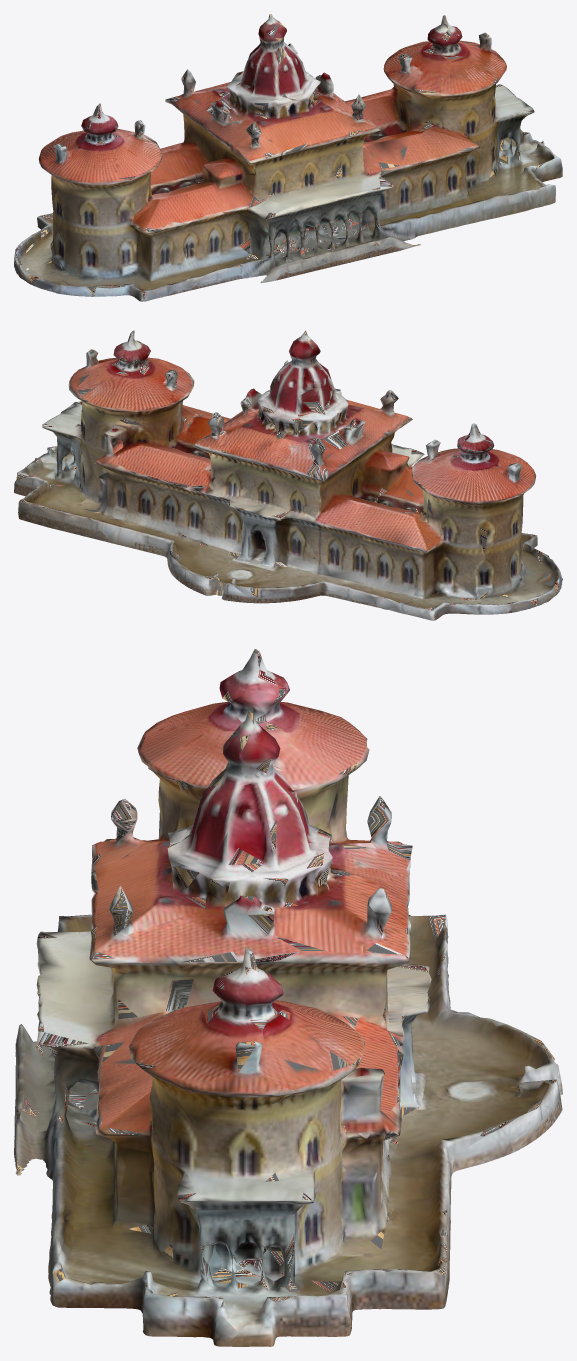
File: landmark_castle.glb
3 views of the same model, one above another, from view 1: azimuth 30°, elevation 25°; view 2: azimuth 150°, elevation 25°; view 3: azimuth 270°, elevation 25° (orthographic). The views are drawn at different scales.
Parts seen in each view (by area): view 1: landmark_castle; view 2: landmark_castle; view 3: landmark_castle.
Boxes of the visible parts, <box> form: landmark_castle: <box>14,14,562,301</box>; landmark_castle: <box>14,330,562,620</box>; landmark_castle: <box>14,649,562,1346</box>.
Bounding box in the file's own units: 14.72 × 5.55 × 7.18.
1 material, 1 textured.
